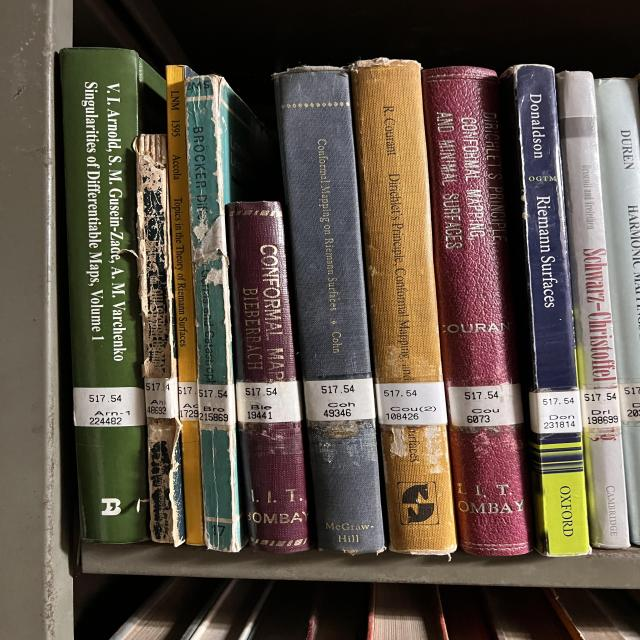Book: (273, 66, 385, 554), (422, 66, 532, 556), (350, 59, 457, 555), (60, 48, 165, 544), (185, 75, 278, 552), (502, 64, 590, 556), (557, 71, 630, 549), (227, 201, 310, 552), (133, 135, 185, 545), (595, 79, 640, 545), (167, 65, 203, 545)
Label: (375, 381, 447, 425), (448, 384, 523, 426), (303, 379, 375, 421), (73, 388, 145, 428), (237, 381, 302, 422), (530, 390, 582, 434), (198, 384, 237, 430), (580, 388, 620, 428), (145, 378, 178, 419), (618, 384, 640, 422), (178, 382, 198, 421)
